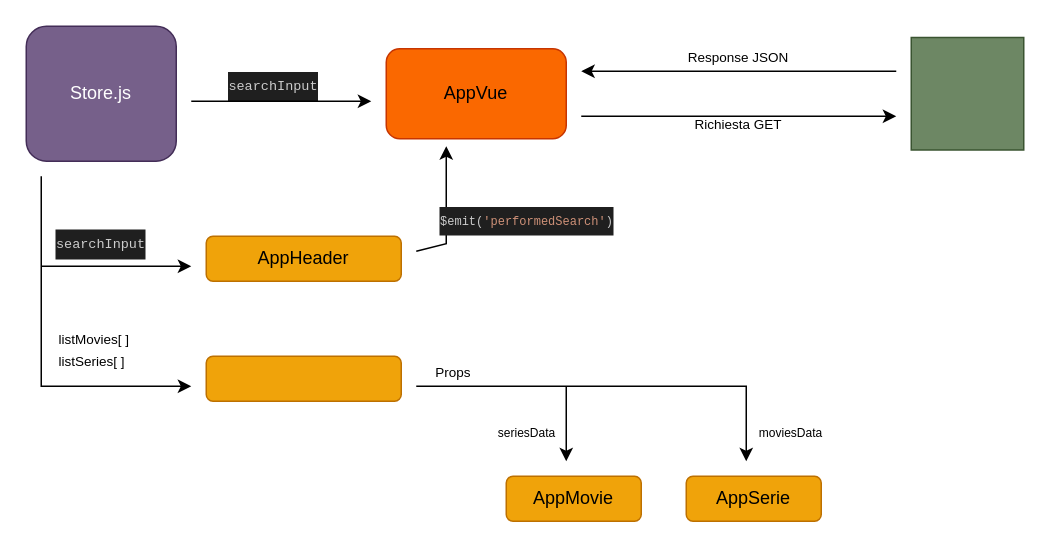
The diagram is 1050 pixels wide and 548 high, and some of its shapes have lost their labels. The shapes that lost their labels are listed below. From the top down, each one's centre as x and y in pixels, then its label:
(967,93): API
(303,378): AppMain
